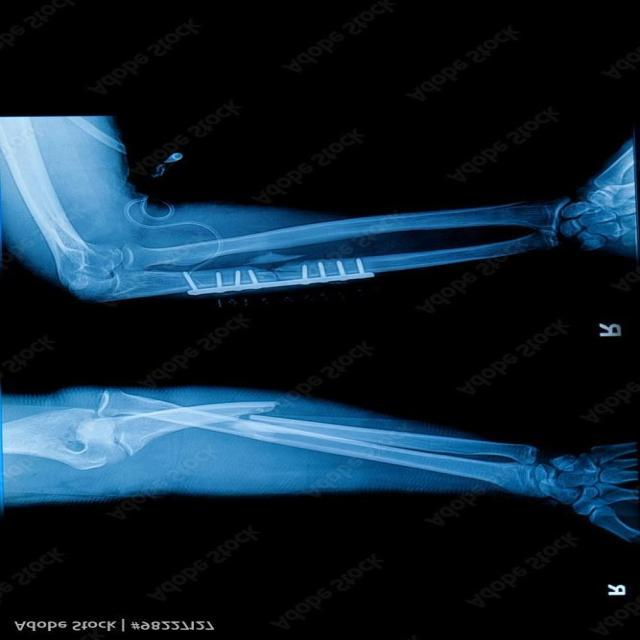bone: (226, 250, 331, 292), (212, 395, 304, 433)
